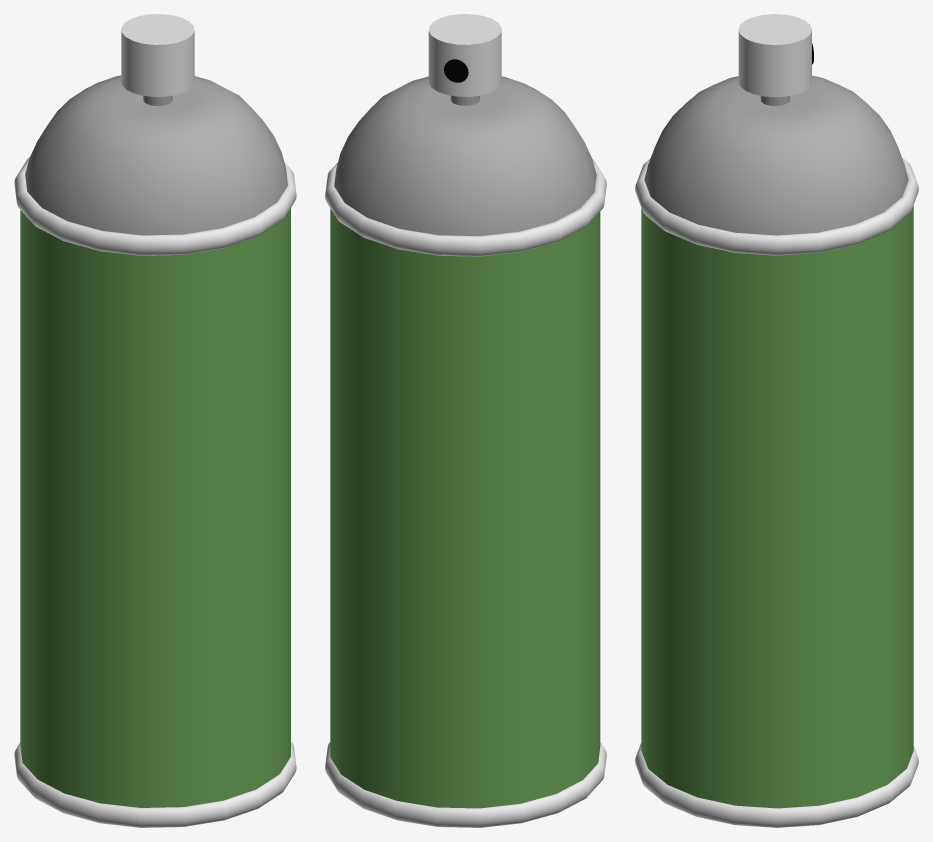
File: aerosol_can.fbx
The picture shows the model from 3 angles, left to right: view 1: azimuth 30°, elevation 25°; view 2: azimuth 150°, elevation 25°; view 3: azimuth 270°, elevation 25°; orthographic projection.
Parts seen in each view (by area): view 1: pCylinder4; view 2: pCylinder4; view 3: pCylinder4.
Part boxes in pixels (<box>): pCylinder4: <box>14,14,296,827</box>; pCylinder4: <box>325,14,606,827</box>; pCylinder4: <box>635,14,918,827</box>.
Size of the model in its own units: 4.55 by 13.12 by 4.55.
